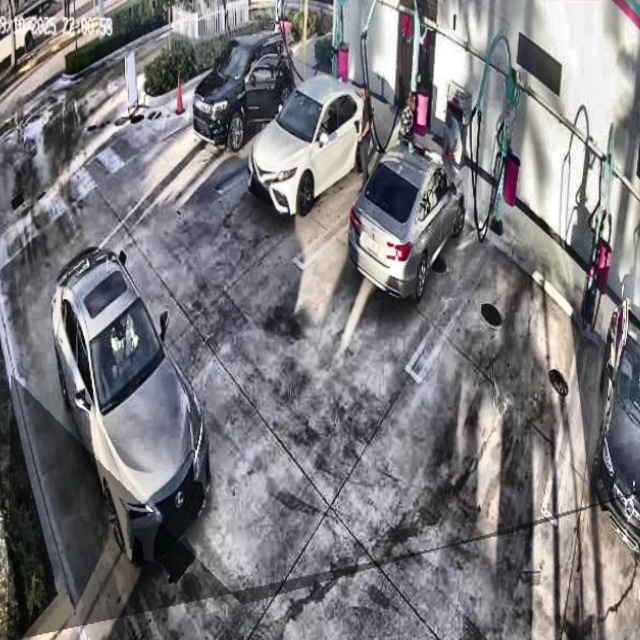Car: (48, 241, 212, 565), (348, 142, 464, 297), (248, 71, 371, 211)
